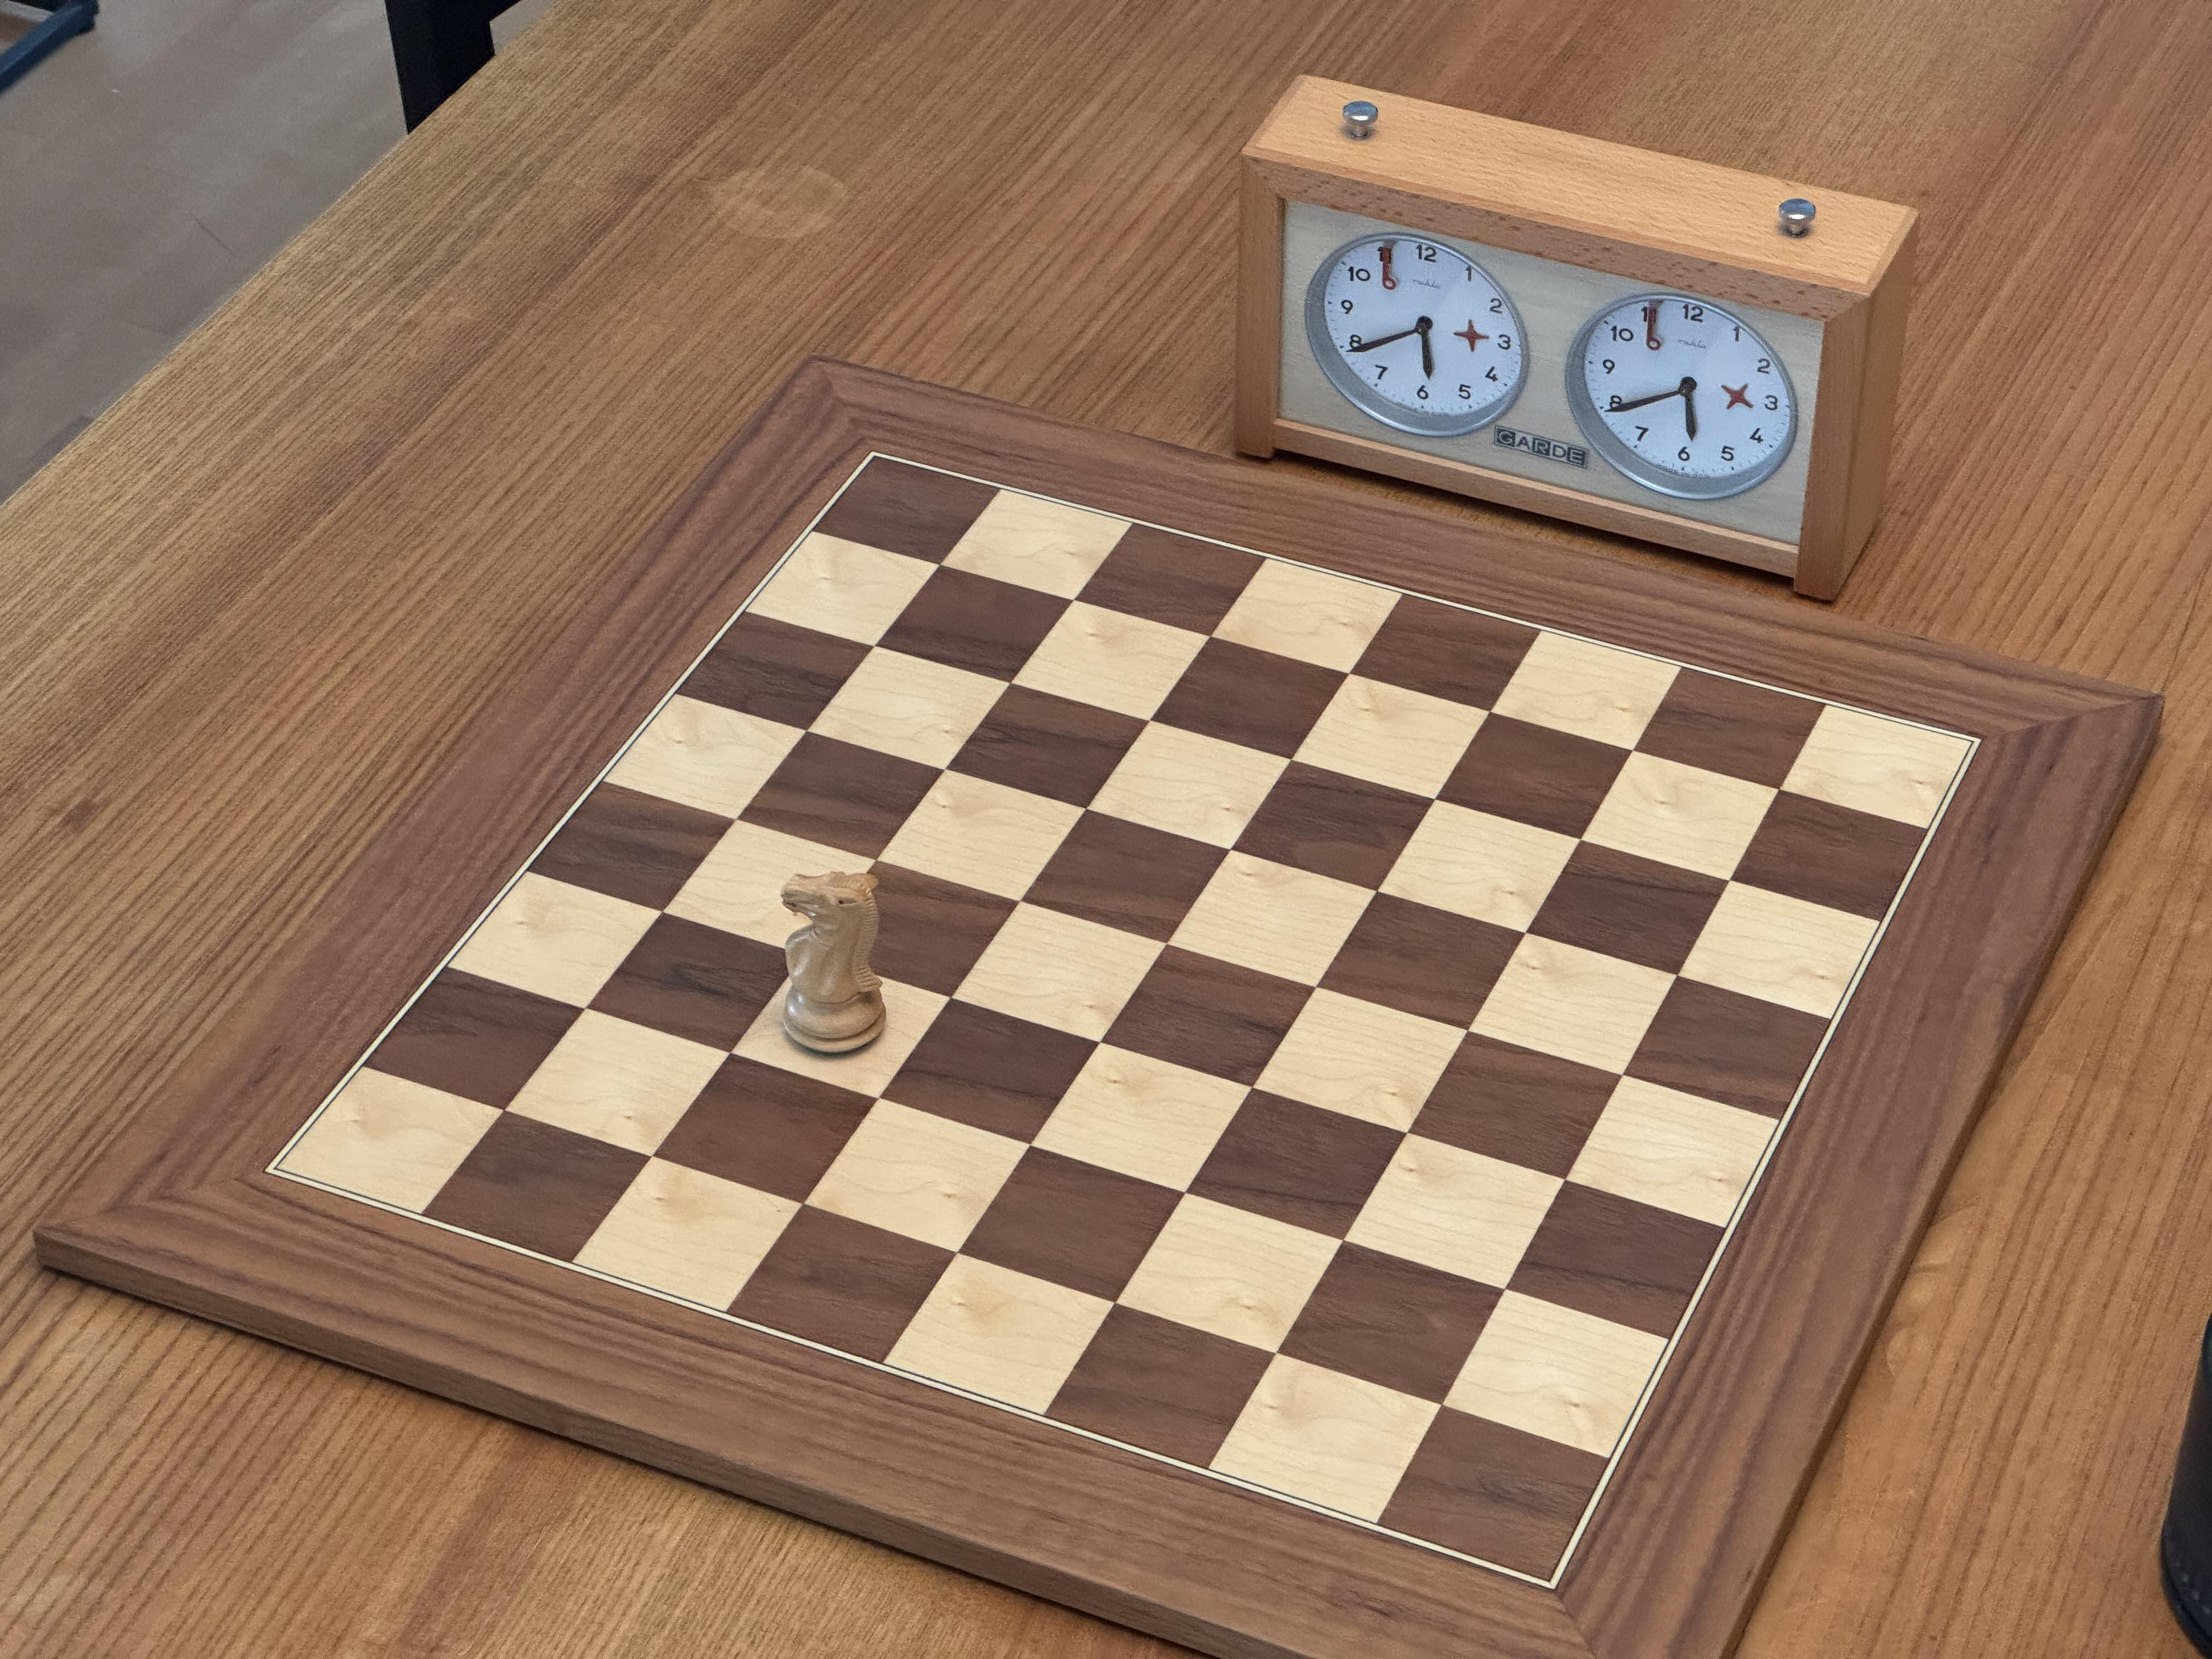White Knight: (768, 863, 896, 1064)
